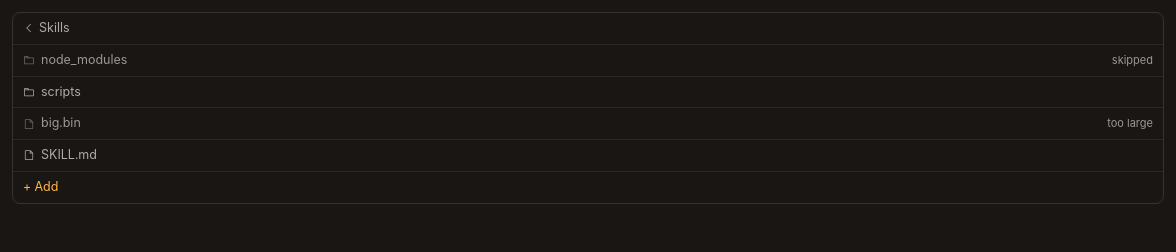
Test: SkillBundle › nests a file under its folder, and only once the folder is opened
Expected: the button "SKILL.md" is shown, [13,140,1163,171]
Expected: the button "build.py" is not shown
Click the button "scripts" at (61, 91), box [13,76,1163,108]
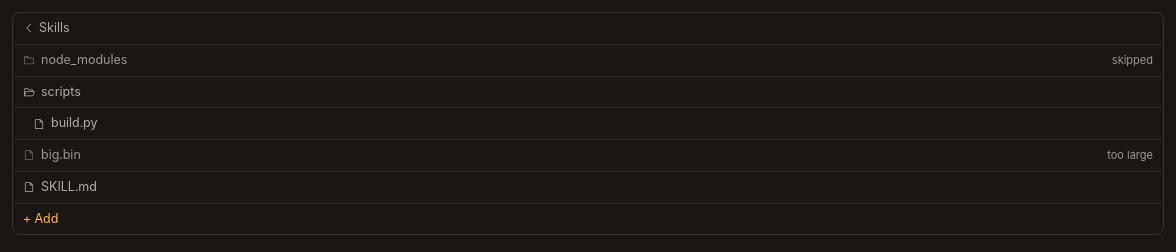
Now the button "build.py" is shown, box [13,108,1163,140]
